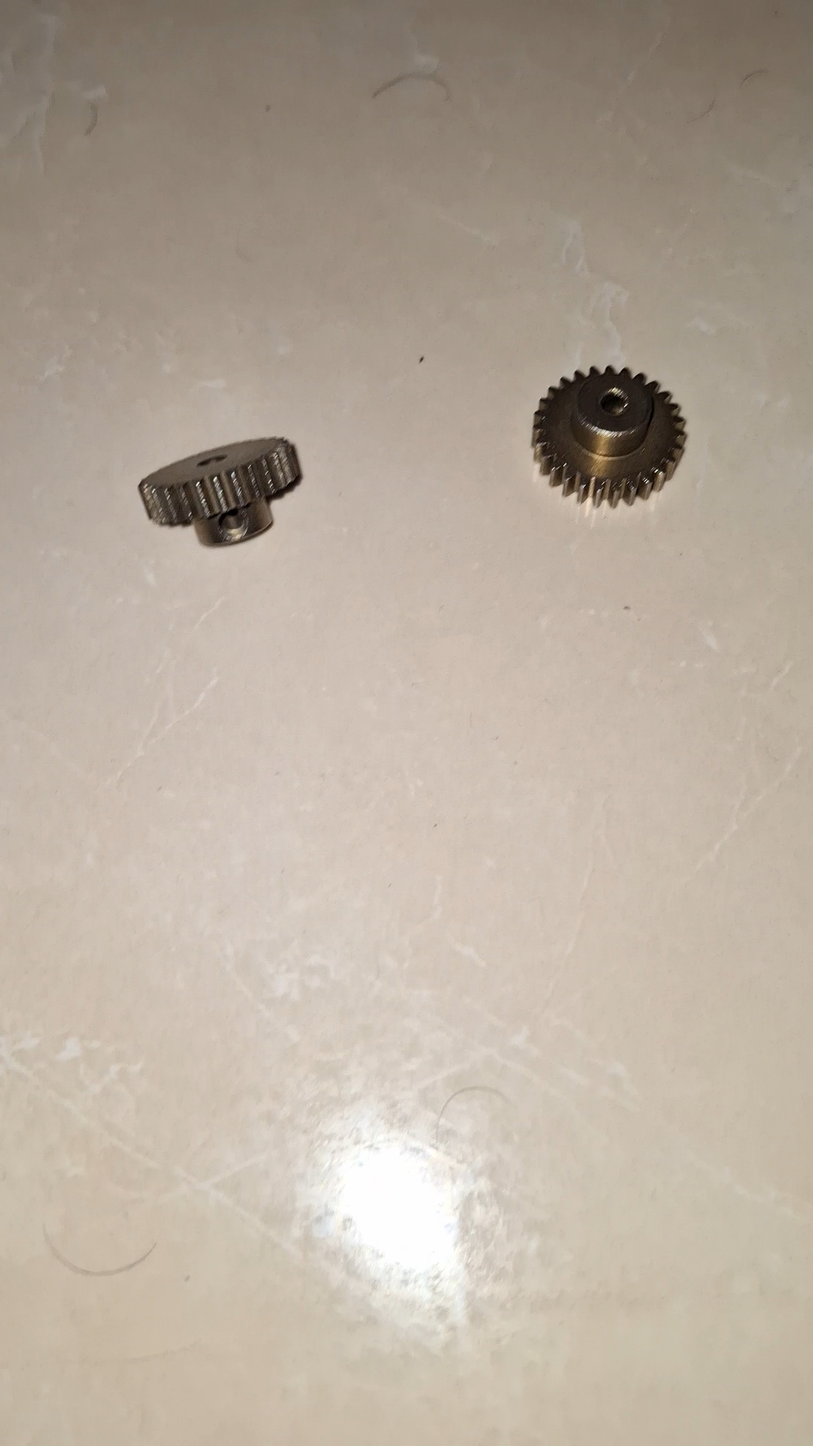spur gear: (532, 368, 685, 506), (139, 438, 300, 546)
